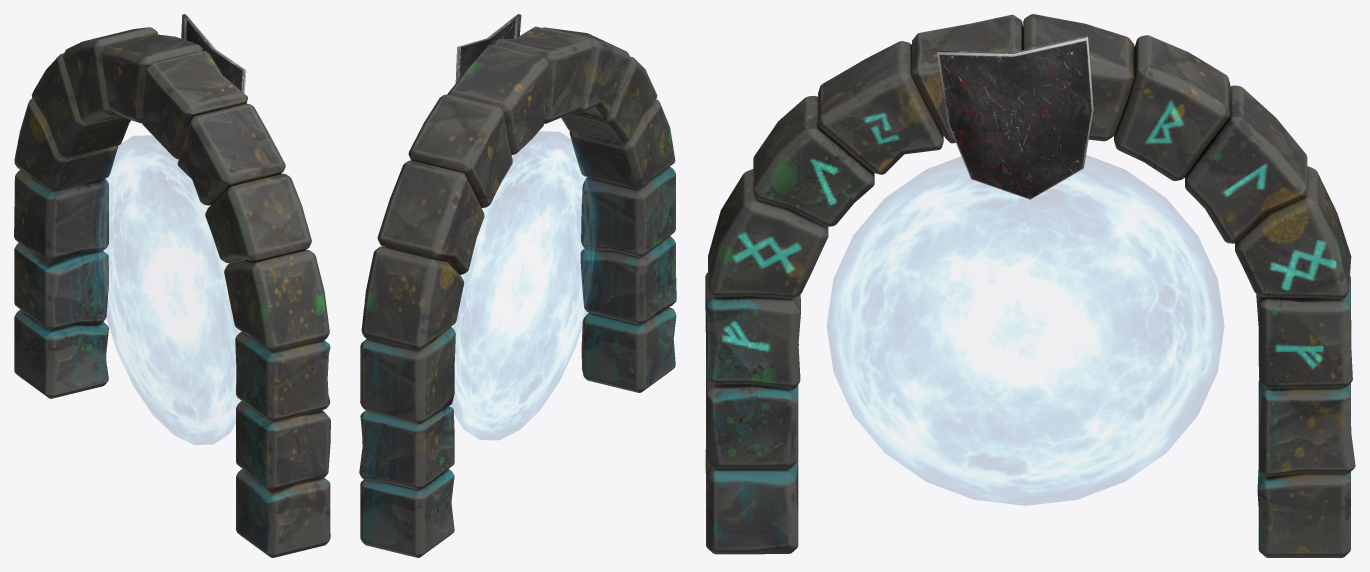
Rendered from magic_portal_standalone.glb.
3 views of the same model, side by side, from view 1: azimuth 30°, elevation 25°; view 2: azimuth 150°, elevation 25°; view 3: azimuth 270°, elevation 25° (orthographic). The views are drawn at different scales.
Parts seen in each view (by area): view 1: Object_8, Object_4, Object_3; view 2: Object_8, Object_4, Object_3; view 3: Object_8, Object_4, Object_3.
Part boxes in pixels (<box>): Object_8: <box>14,27,330,557</box>; Object_4: <box>94,136,240,444</box>; Object_3: <box>181,14,246,93</box>; Object_8: <box>359,26,676,557</box>; Object_4: <box>450,132,598,439</box>; Object_3: <box>455,14,521,83</box>; Object_8: <box>705,14,1355,557</box>; Object_4: <box>827,155,1223,505</box>; Object_3: <box>937,36,1093,199</box>.
Size of the model in its own units: 3.24 by 15.48 by 17.32.
Materials: 3 (3 with a texture image).
